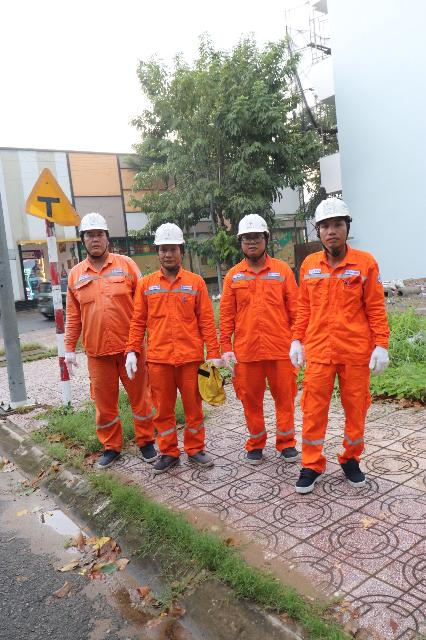gloves: (364, 334, 407, 372), (285, 335, 315, 376), (116, 351, 144, 379), (221, 349, 245, 374), (58, 346, 85, 368), (208, 351, 225, 373)
helmet: (312, 192, 354, 226), (74, 209, 114, 243), (153, 221, 190, 255), (237, 206, 276, 238)
shoes: (332, 450, 378, 491), (290, 461, 327, 495), (185, 445, 220, 471), (236, 437, 268, 462), (154, 445, 179, 476), (94, 445, 122, 471), (133, 437, 160, 462), (276, 441, 304, 462)
